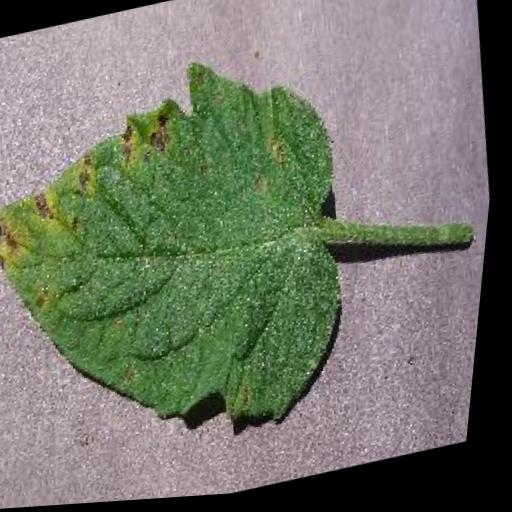Septoria: (0, 32, 386, 482)
